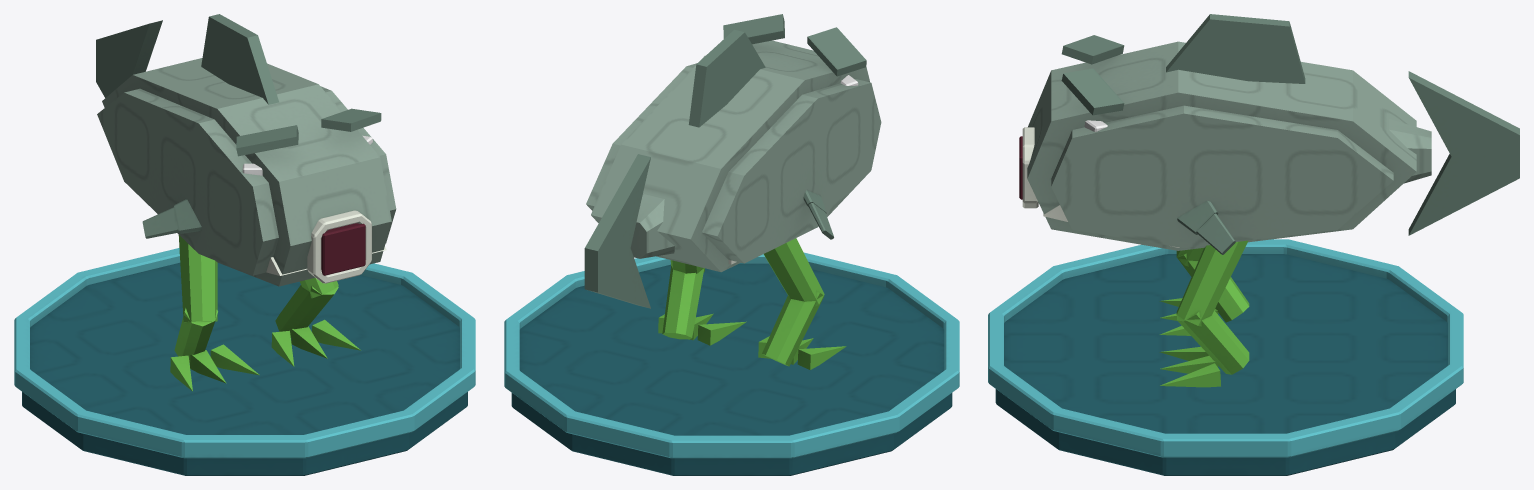
Rendered from WalkingFish.fbx.
3 renders of one model, left to right at view 1: azimuth 30°, elevation 25°; view 2: azimuth 150°, elevation 25°; view 3: azimuth 270°, elevation 25°, orthographic. The views are drawn at different scales.
Parts seen in each view (by area): view 1: Art_WalkingFish_Stand, Art_WalkingFish_Body, Art_WalkingFish_LegR, Art_WalkingFish_Fin, Art_WalkingFish_LegL, Art_WalkingFish_Tail; view 2: Art_WalkingFish_Stand, Art_WalkingFish_Body, Art_WalkingFish_Tail, Art_WalkingFish_LegR, Art_WalkingFish_Fin, Art_WalkingFish_LegL; view 3: Art_WalkingFish_Stand, Art_WalkingFish_Body, Art_WalkingFish_Tail, Art_WalkingFish_Fin, Art_WalkingFish_LegL, Art_WalkingFish_LegR.
Part boxes in pixels (<box>): Art_WalkingFish_Stand: <box>14,248,475,475</box>; Art_WalkingFish_Body: <box>97,58,396,286</box>; Art_WalkingFish_LegR: <box>170,235,259,391</box>; Art_WalkingFish_Fin: <box>201,14,278,104</box>; Art_WalkingFish_LegL: <box>271,277,360,366</box>; Art_WalkingFish_Tail: <box>96,20,162,97</box>; Art_WalkingFish_Stand: <box>504,252,959,475</box>; Art_WalkingFish_Body: <box>586,14,881,272</box>; Art_WalkingFish_Tail: <box>584,154,674,308</box>; Art_WalkingFish_LegR: <box>758,238,846,369</box>; Art_WalkingFish_Fin: <box>688,29,765,127</box>; Art_WalkingFish_LegL: <box>658,260,746,345</box>; Art_WalkingFish_Stand: <box>988,239,1463,475</box>; Art_WalkingFish_Body: <box>1019,35,1416,254</box>; Art_WalkingFish_Tail: <box>1389,71,1519,235</box>; Art_WalkingFish_Fin: <box>1166,14,1305,83</box>; Art_WalkingFish_LegL: <box>1159,240,1249,387</box>; Art_WalkingFish_LegR: <box>1159,248,1249,335</box>.
Size of the model in its own units: 2.99 by 2.52 by 3.35.
